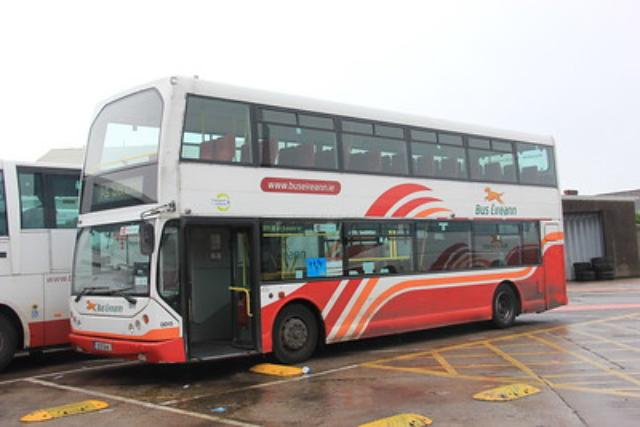bus: (67, 74, 566, 366)
